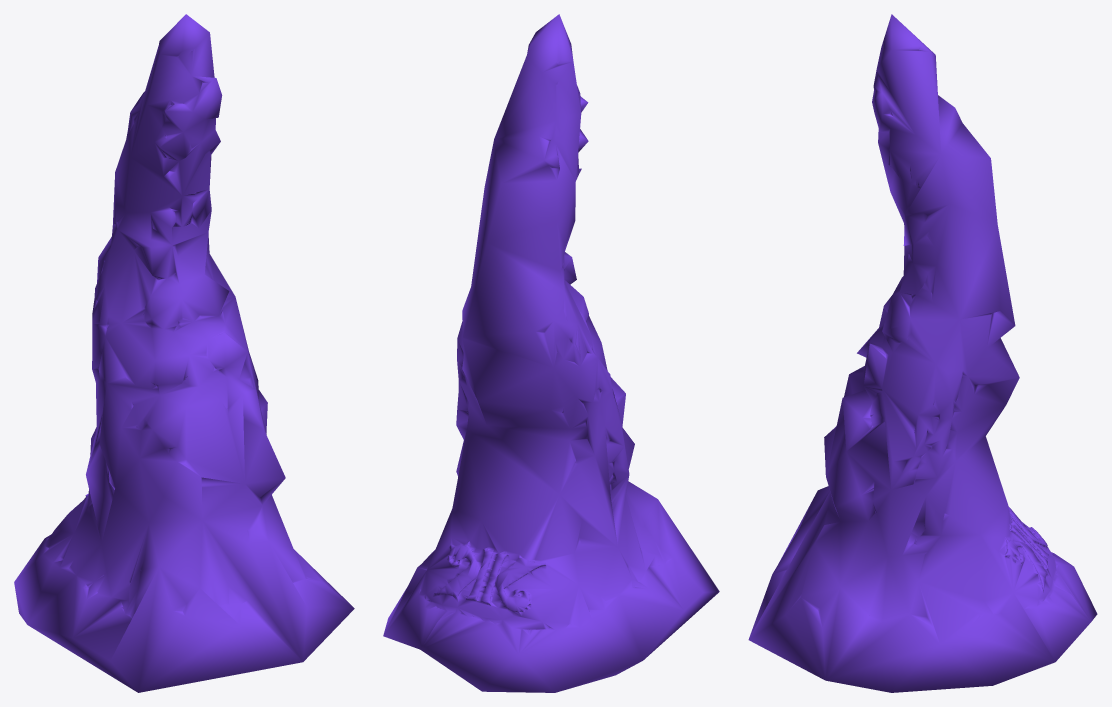
File: xsmall-suction-ar.glb
3 views of the same model, side by side, from view 1: azimuth 30°, elevation 25°; view 2: azimuth 150°, elevation 25°; view 3: azimuth 270°, elevation 25° (orthographic). The views are drawn at different scales.
Size of the model in its own units: 0.0875 by 0.1959 by 0.1011.
